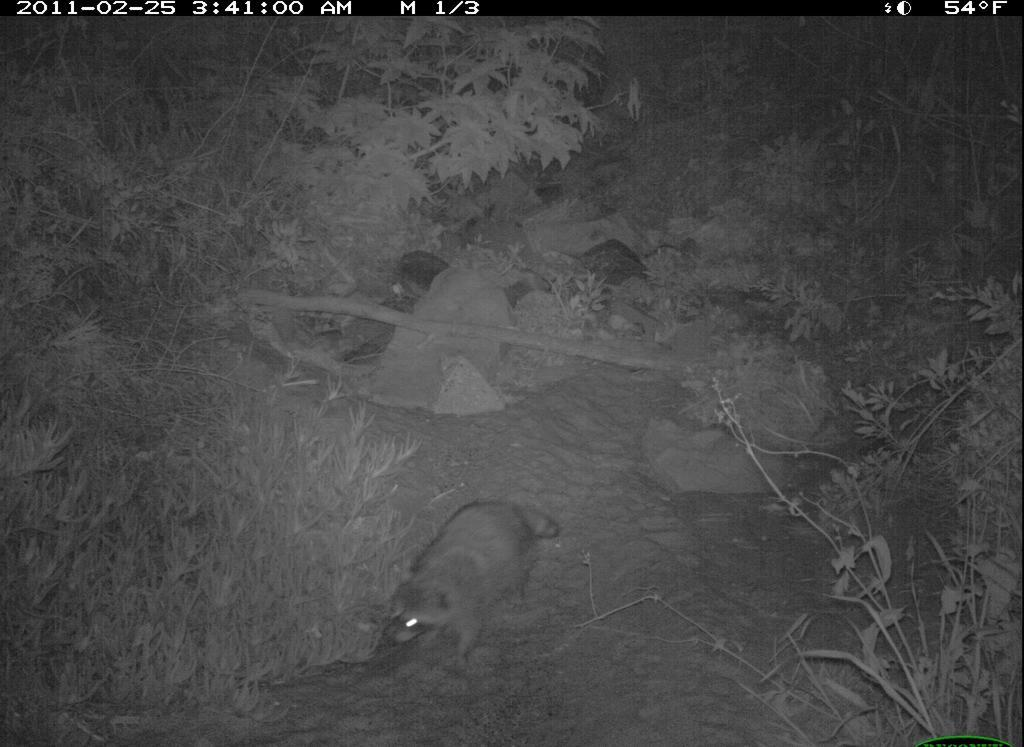raccoon: (374, 486, 570, 669)
